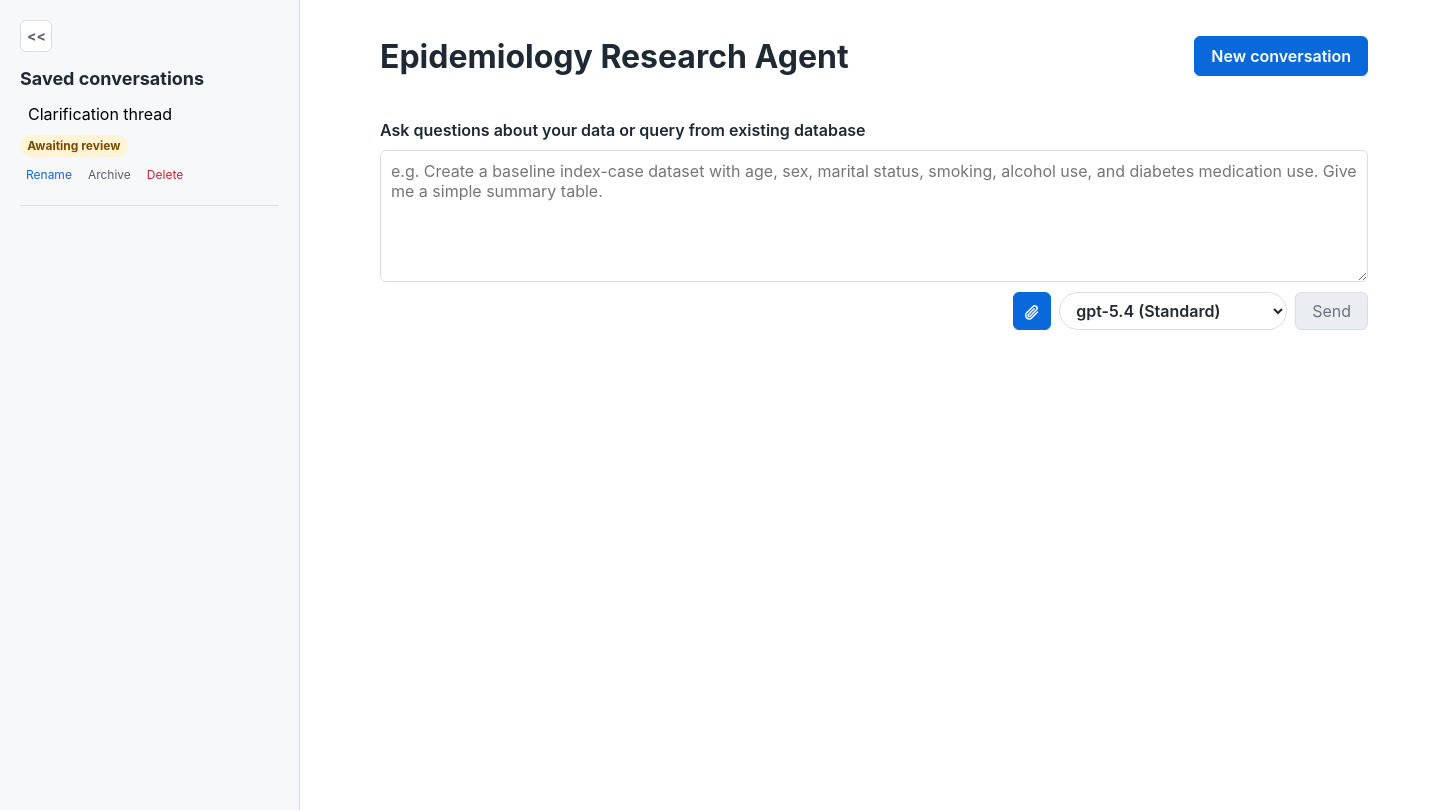
Scenario: App › clears the saved-conversation review badge after resume and cancellation
This screenshot has width=1440, height=810.
Expected: the text "Awaiting review" is shown, x1=20 y1=135 x2=128 y2=157
Click the button "Clarification thread": (100, 114) x1=20 y1=97 x2=180 y2=131
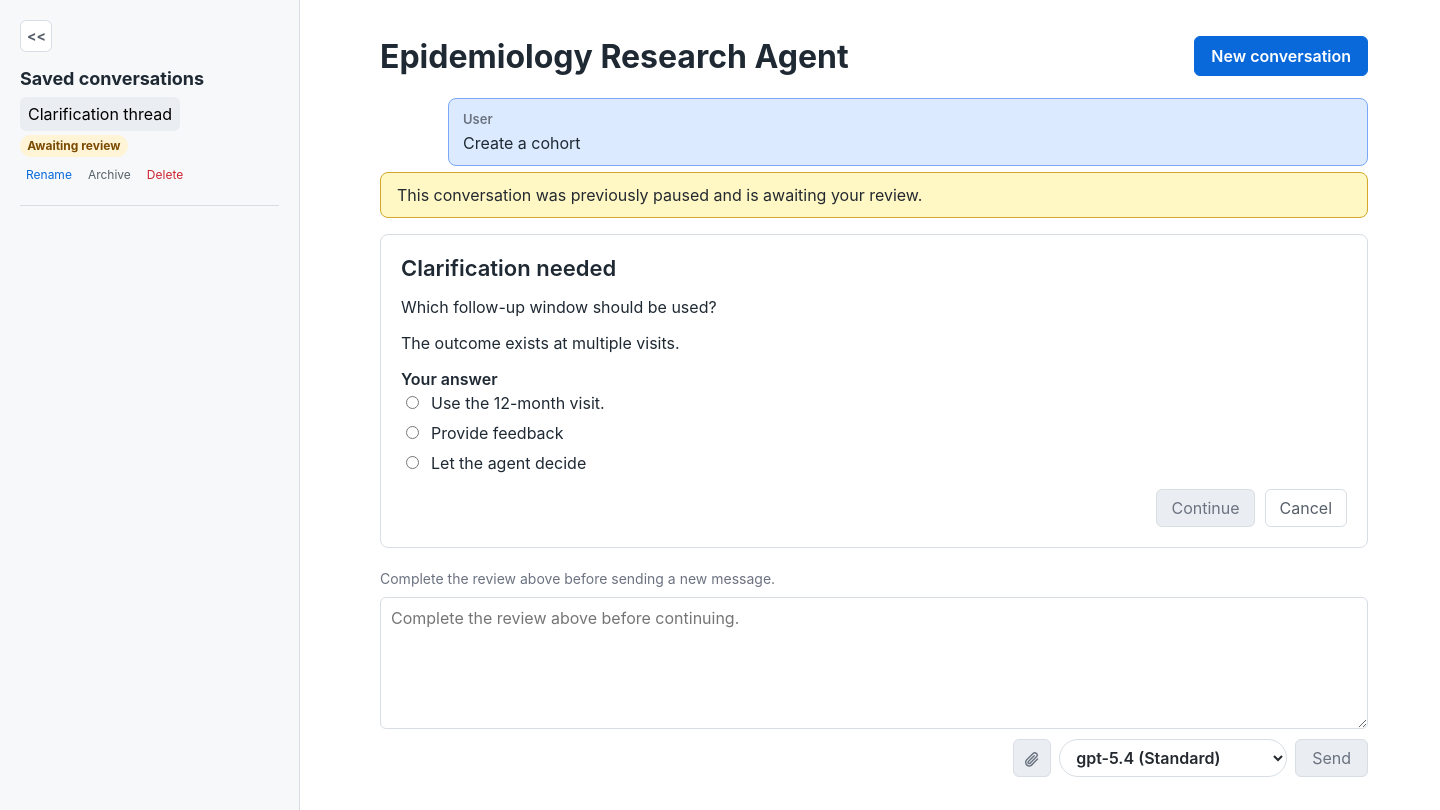
Click the radio button labelled "Let the agent decide": (412, 462) x1=406 y1=456 x2=419 y2=469
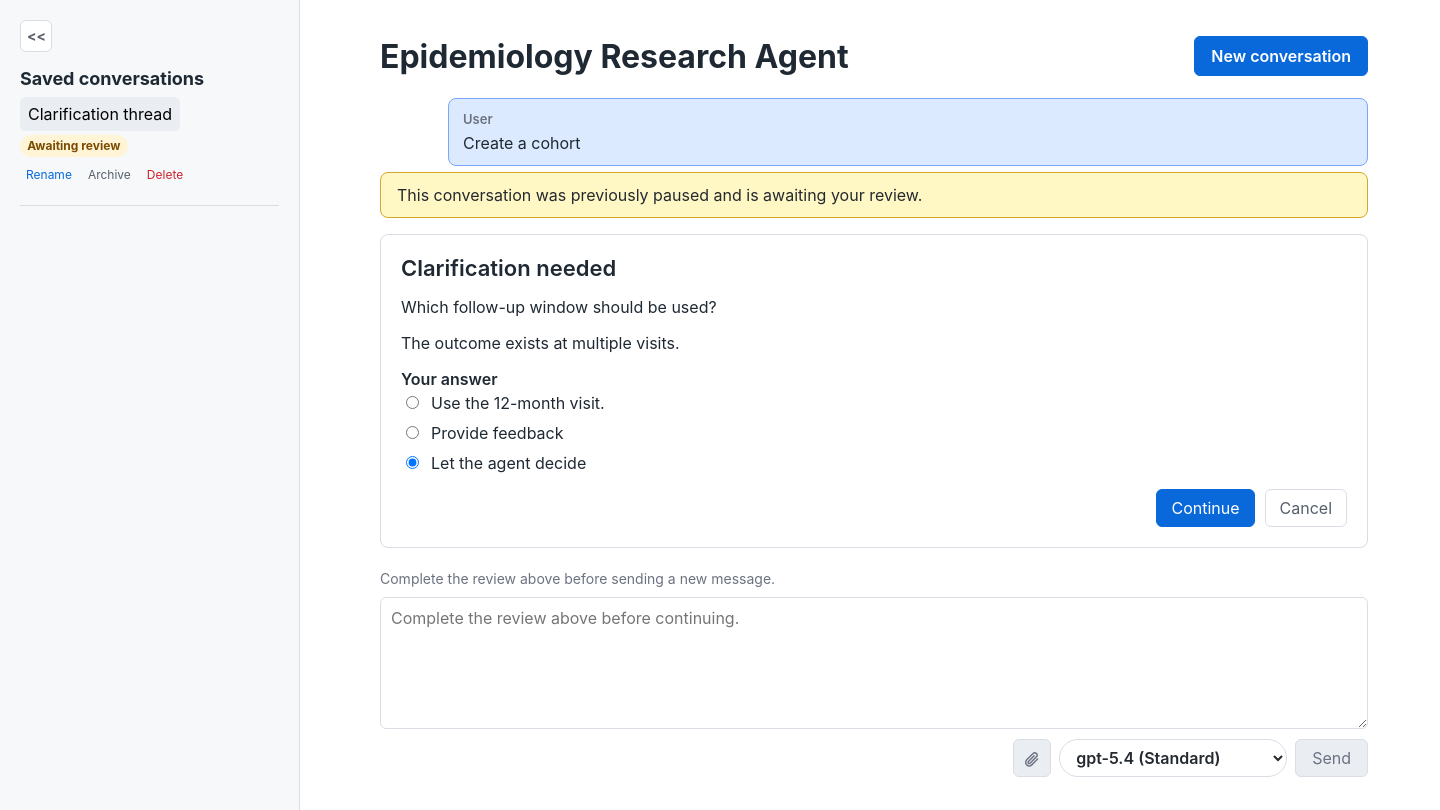
Click the button "Continue": (1205, 508) x1=1156 y1=489 x2=1254 y2=527
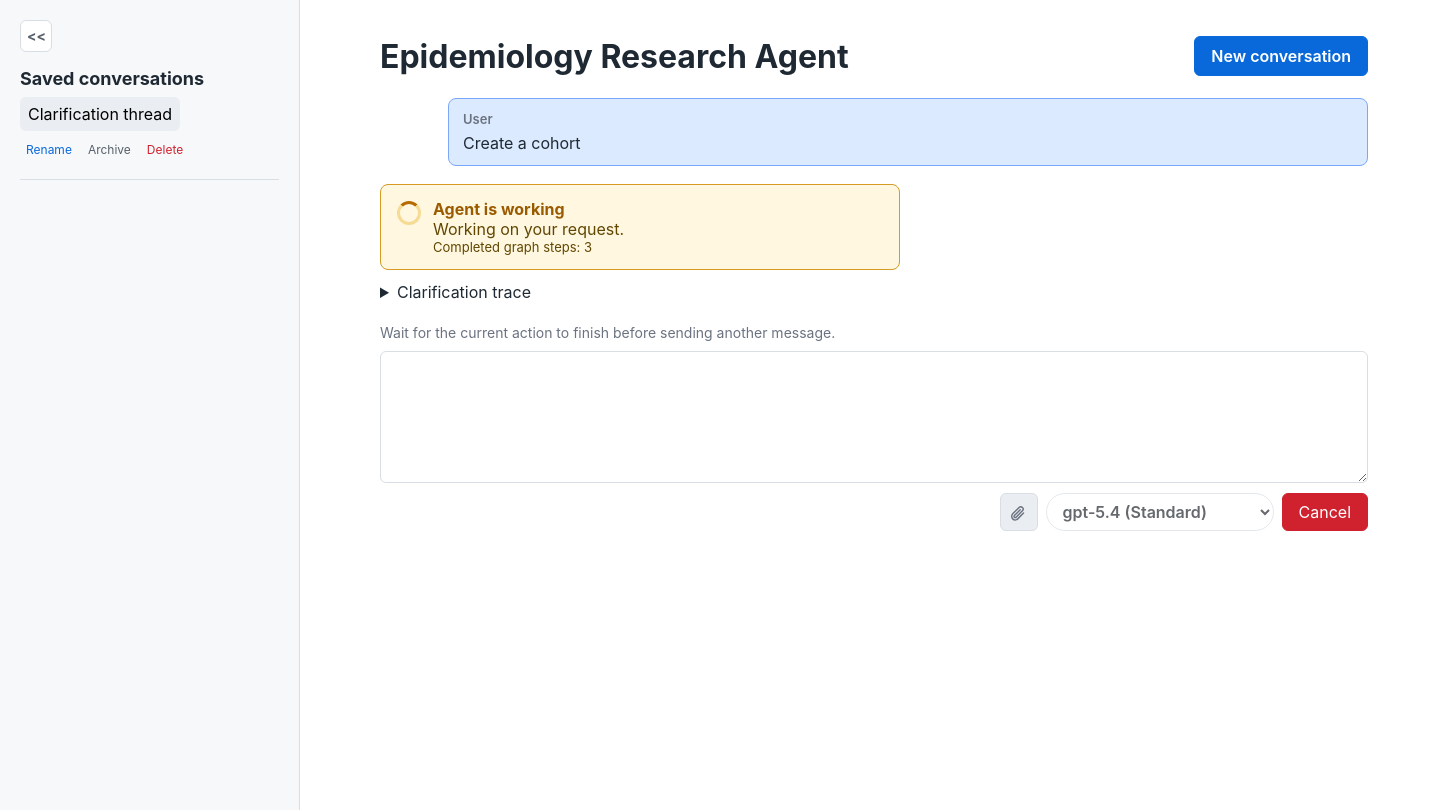
Now the text "Awaiting review" is gone
Click the button with aria-label "Cancel run": (1325, 512) x1=1282 y1=493 x2=1368 y2=531
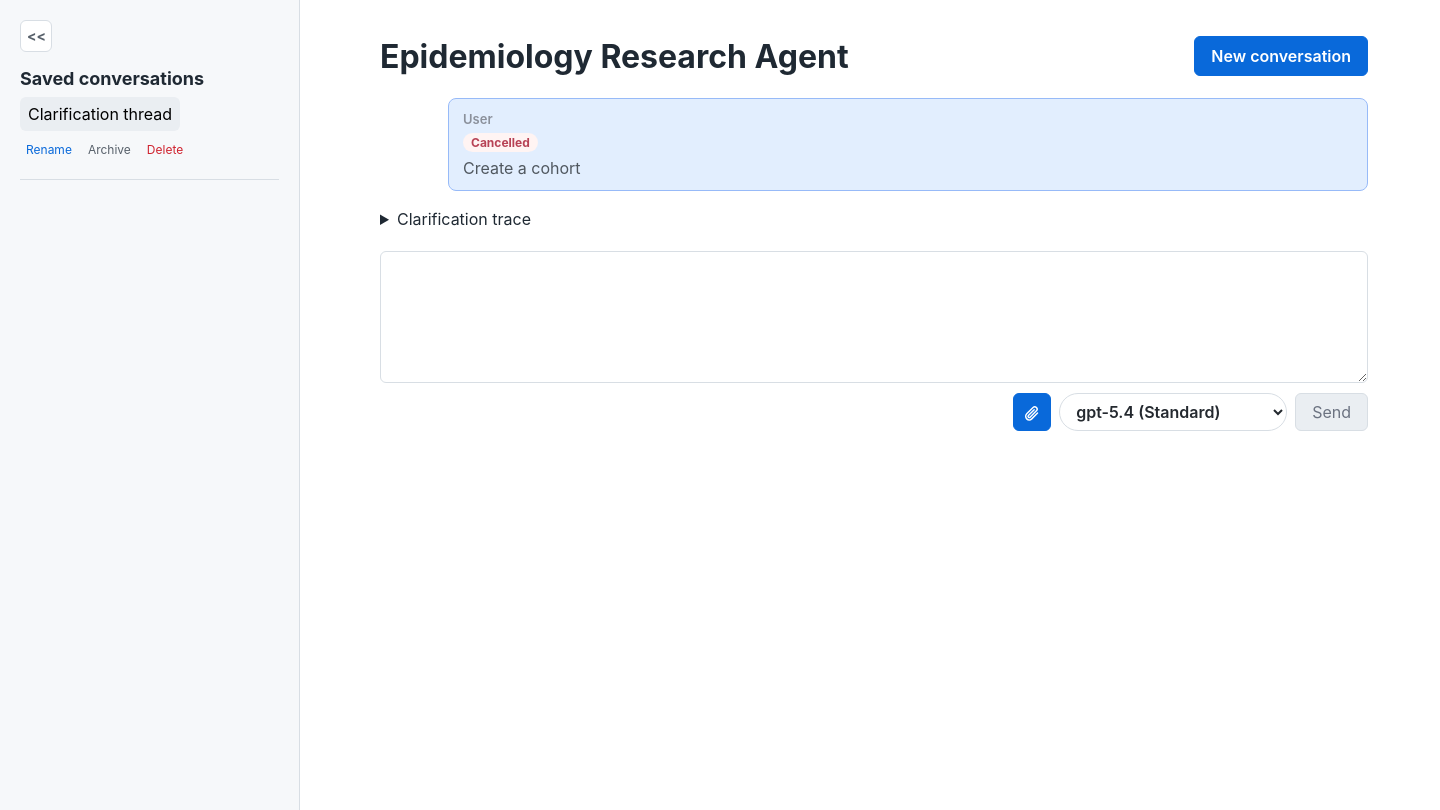
Expected: the text "Awaiting review" is not shown
Now the text box named "Ask a question about your dataset!" is enabled, box x1=380 y1=251 x2=1368 y2=383
